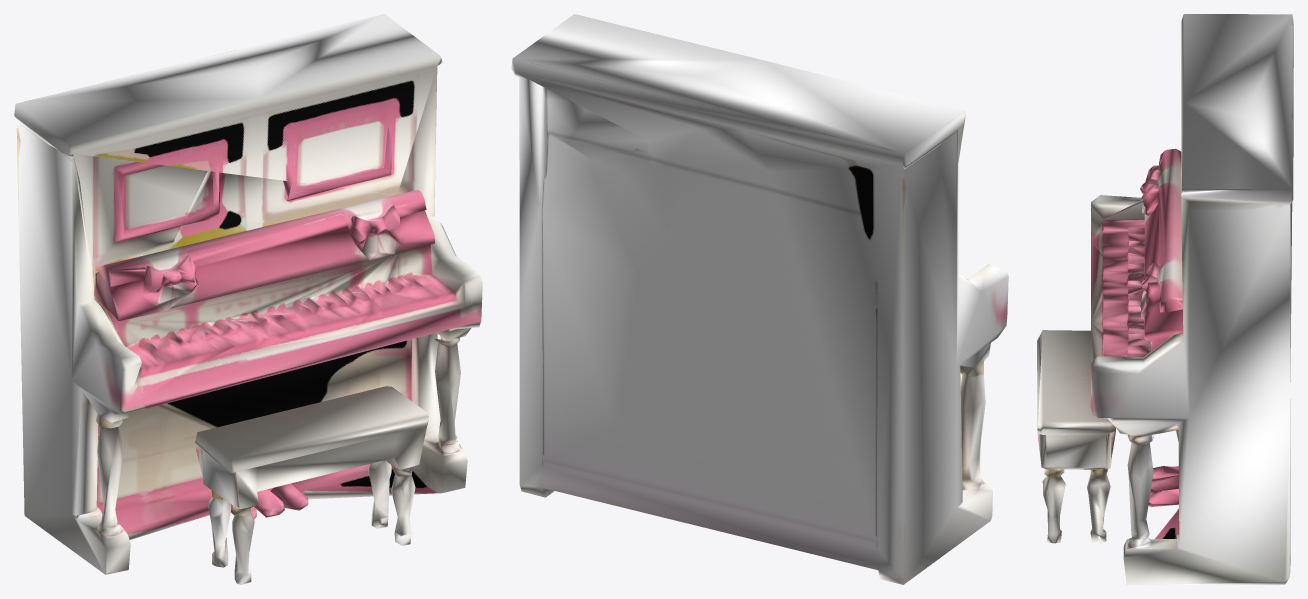
Rendered from regr_upright_piano.fbx.
3 views of the same model, side by side, from view 1: azimuth 30°, elevation 25°; view 2: azimuth 150°, elevation 25°; view 3: azimuth 270°, elevation 25° (orthographic). The views are drawn at different scales.
Parts seen in each view (by area): view 1: Mesh1.0; view 2: Mesh1.0; view 3: Mesh1.0.
Boxes of the visible parts, box(x1,y1,x2,y2) form: Mesh1.0: box(14, 14, 482, 584); Mesh1.0: box(511, 14, 1008, 584); Mesh1.0: box(1037, 14, 1293, 584).
Size of the model in its own units: 178 by 190 by 110.
Materials: 1 (1 with a texture image).
